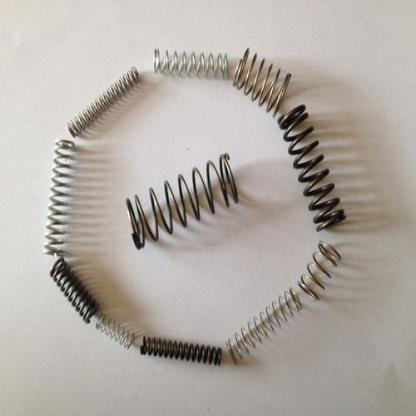FOD: (121, 151, 238, 251), (276, 100, 347, 234), (226, 286, 301, 365), (67, 64, 142, 131), (230, 44, 292, 119), (43, 136, 75, 260), (47, 259, 98, 325), (138, 332, 224, 368), (297, 237, 342, 301), (151, 46, 229, 78), (96, 315, 136, 351)
